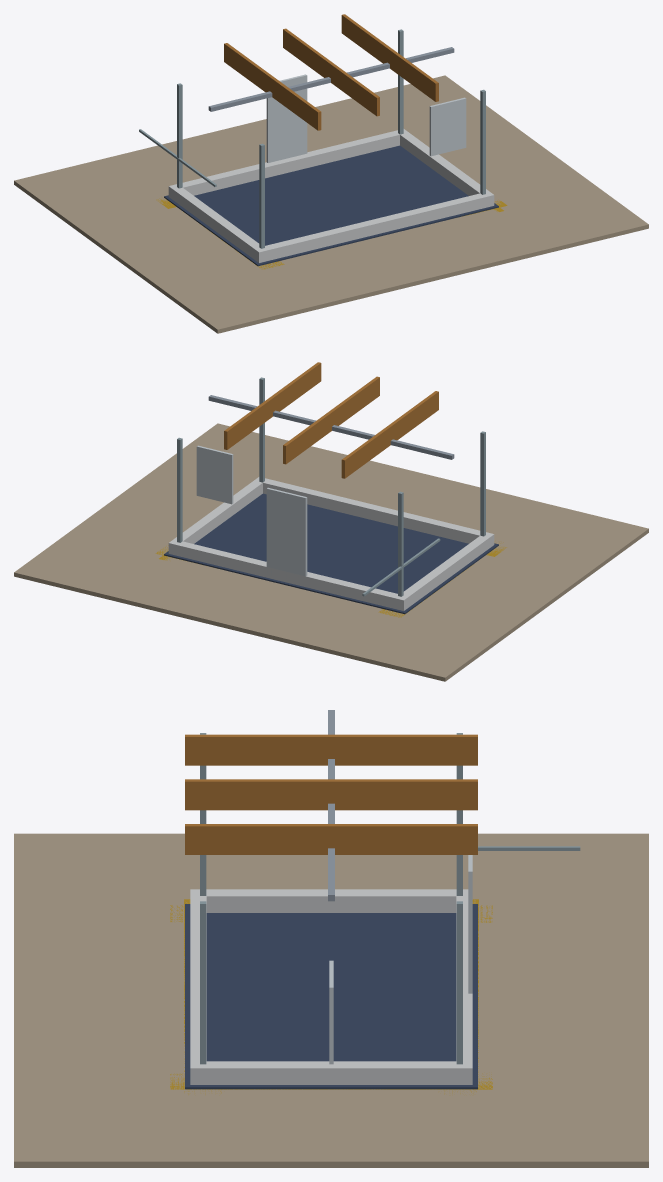
Rendered from stage_09_roof_structure.glb.
The picture shows the model from 3 angles, top to bottom: view 1: azimuth 30°, elevation 25°; view 2: azimuth 150°, elevation 25°; view 3: azimuth 270°, elevation 25°; orthographic projection. The views are drawn at different scales.
Parts seen in each view (by area): view 1: world; view 2: world; view 3: world.
Part boxes in pixels (x1,y1,x2,y2): world: [14, 14, 648, 333]; world: [14, 362, 648, 681]; world: [14, 710, 648, 1167].
Size of the model in its own units: 11 by 4.2 by 9.
